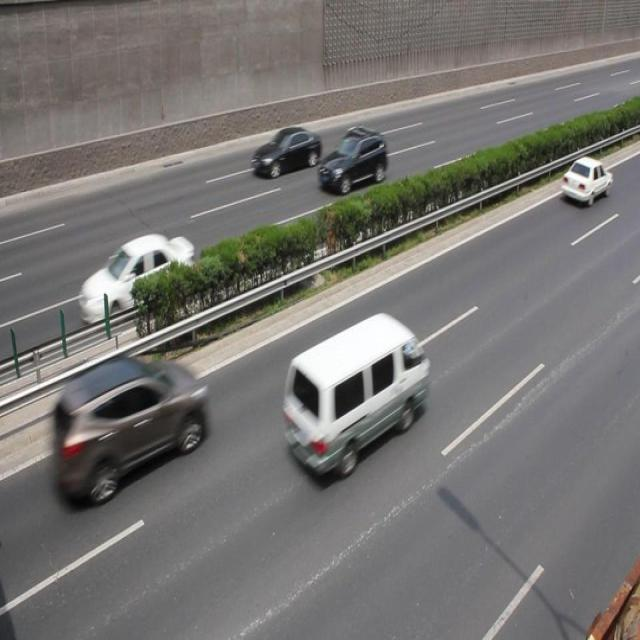car: (49, 355, 208, 505), (78, 232, 196, 334), (317, 122, 388, 192), (250, 126, 323, 178), (560, 155, 610, 208)
truck: (283, 312, 427, 478)
